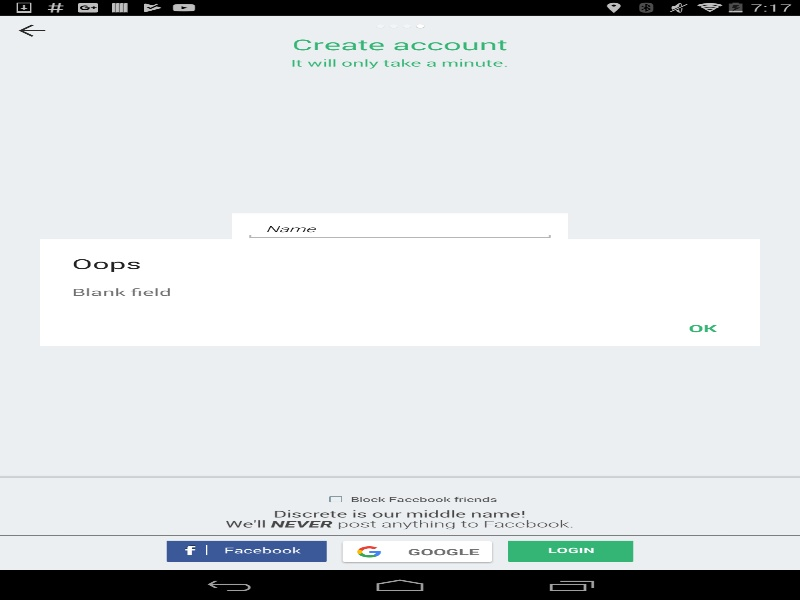Button: (337, 538, 497, 564), (166, 538, 326, 562), (0, 15, 64, 45)
Input: (249, 237, 550, 259), (249, 216, 550, 237), (249, 259, 550, 280), (249, 280, 550, 301)
